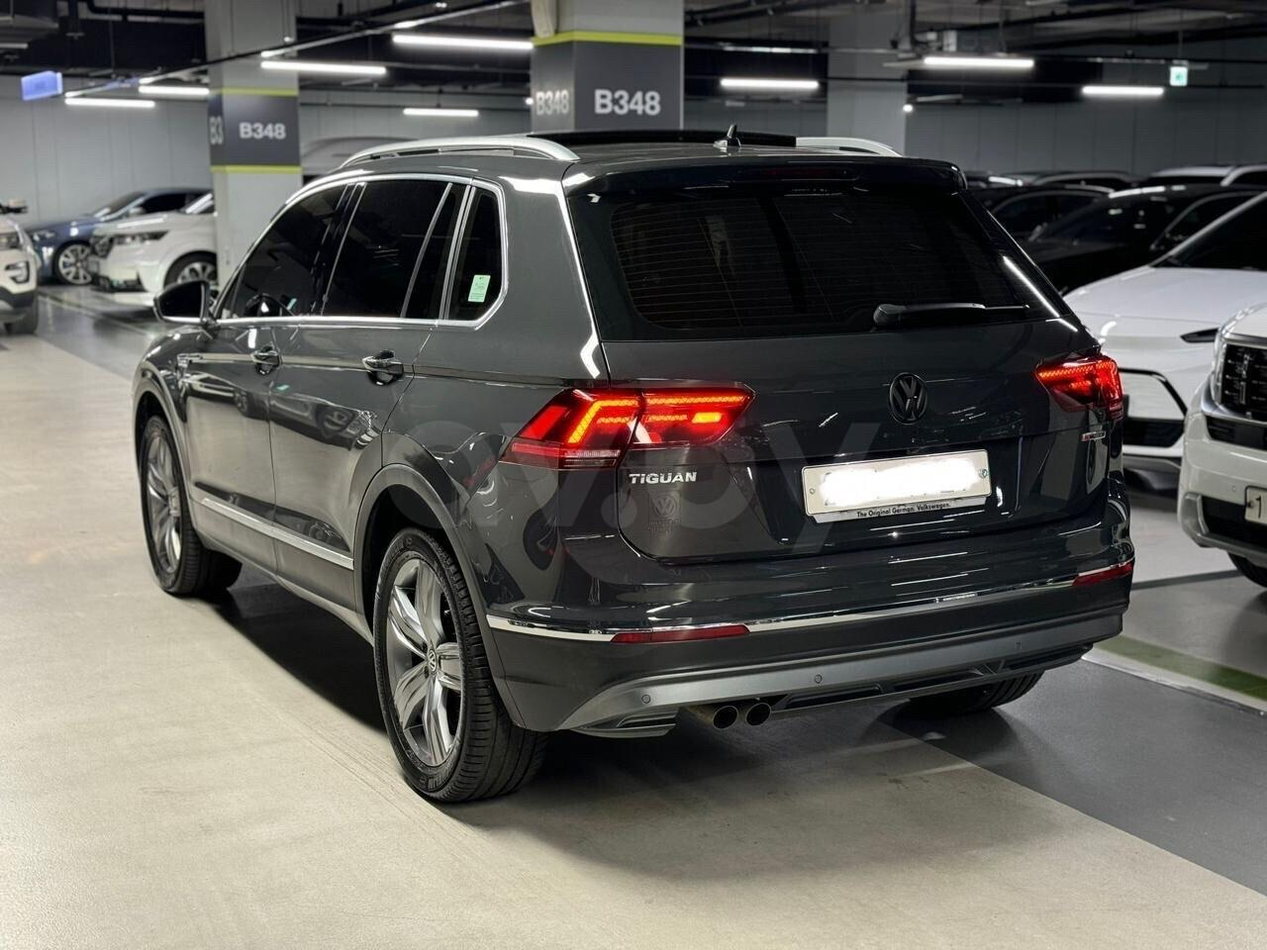Tiguan_2016-2021: (126, 140, 1133, 808)
